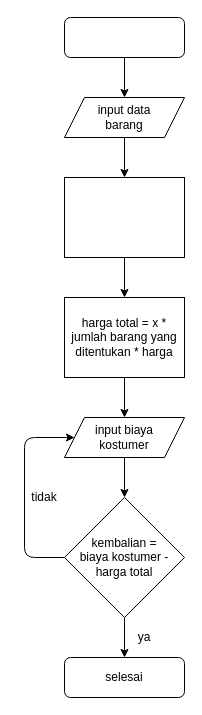
Image size: 202x715. Some labels were removed from this diagram. Each missing label, with the centre of its shape:
"Mulai" belongs at point 124,37.
"x = proses memindai barcode menjadi text (jenis barang)" belongs at point 124,217.
